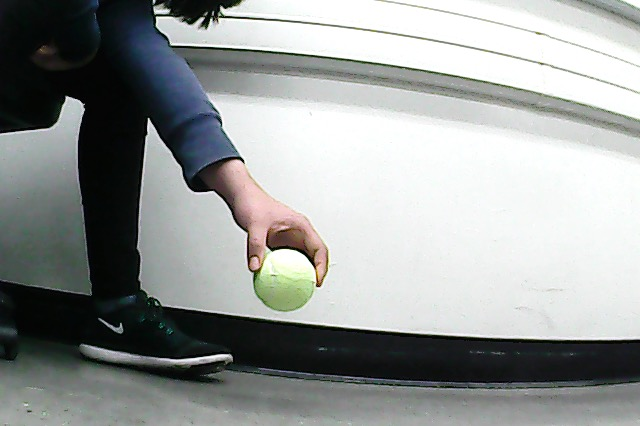ball: (254, 249, 316, 312)
